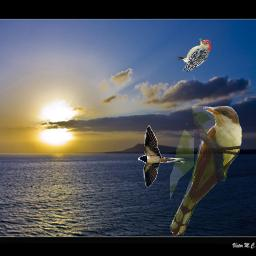Cuckoo: (170, 106, 242, 237)
Swallow: (138, 125, 185, 188)
Woodpecker: (177, 38, 211, 72)
